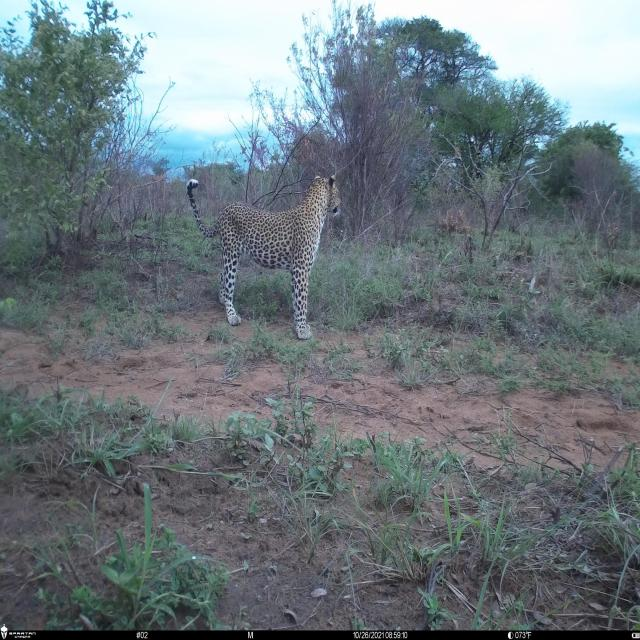Leopard: (179, 162, 342, 352)
